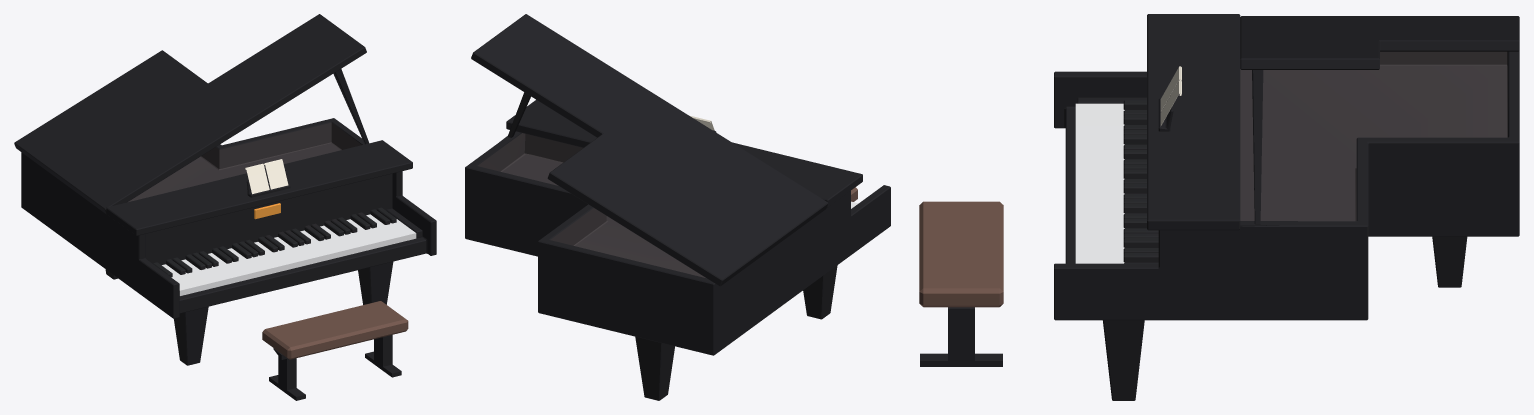
The model's file is piano.fbx.
3 renders of one model, left to right at view 1: azimuth 30°, elevation 25°; view 2: azimuth 150°, elevation 25°; view 3: azimuth 270°, elevation 25°, orthographic. The views are drawn at different scales.
Visible parts, largest first — view 1: piano; view 2: piano; view 3: piano.
Part boxes in pixels (box(x1,y1,x2,y2)): piano: box(14, 14, 436, 400); piano: box(465, 14, 890, 400); piano: box(919, 14, 1519, 400).
Size of the model in its own units: 25.27 by 20.42 by 30.95.
